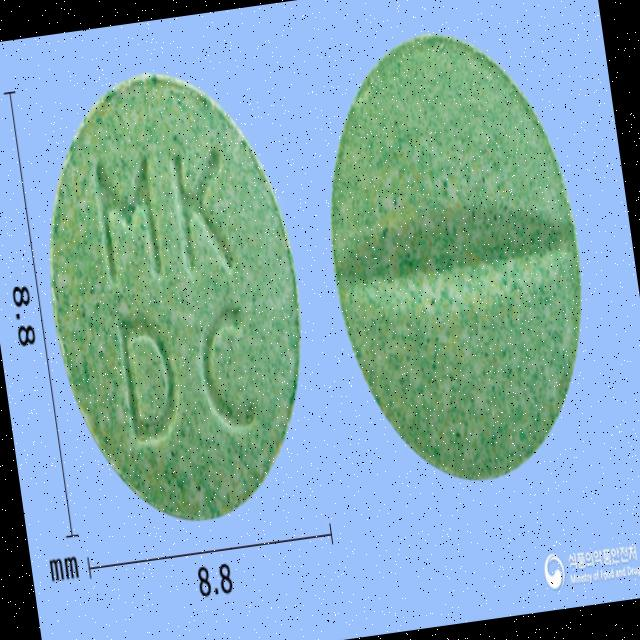Bydoxy: (299, 11, 614, 506), (20, 49, 332, 546)
